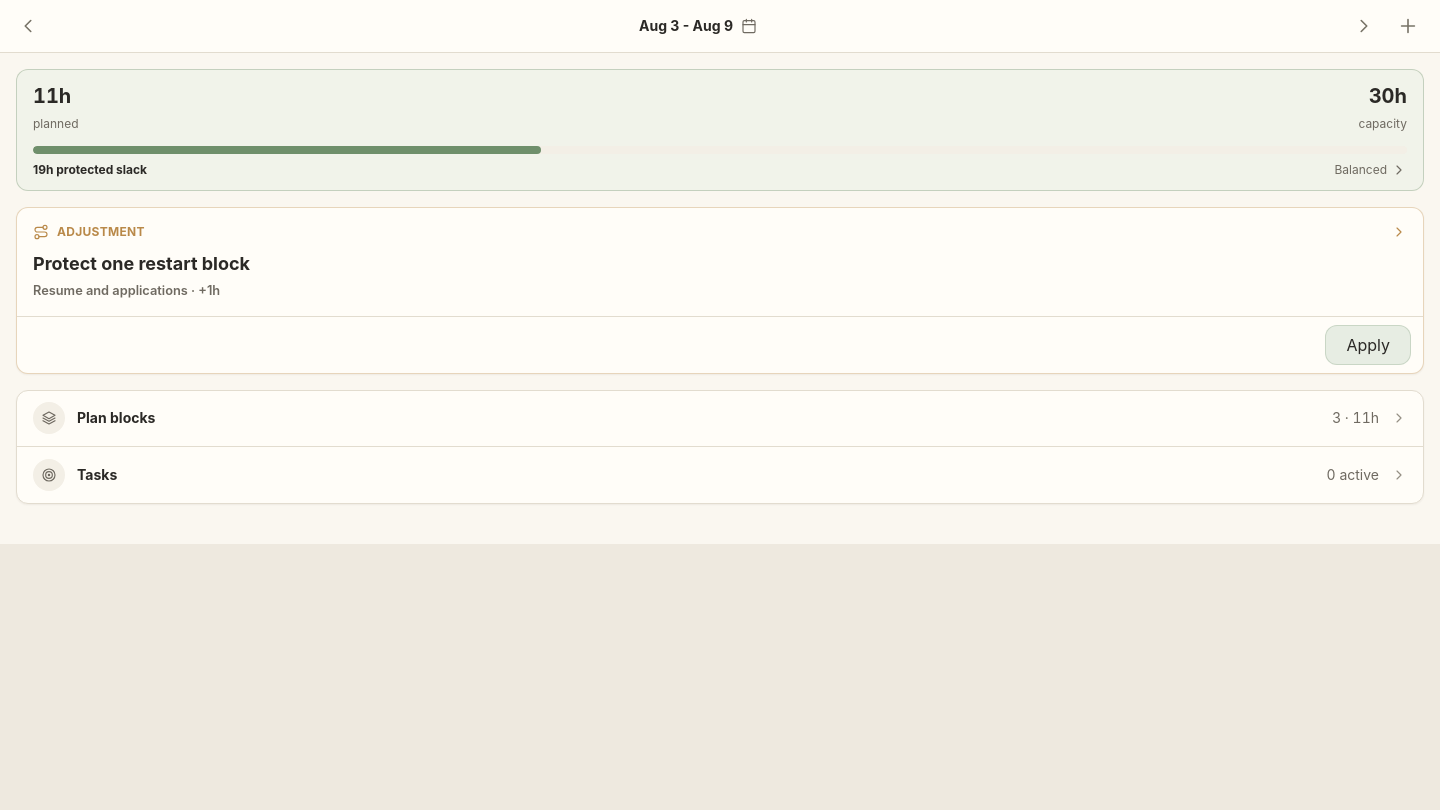
Scenario: PlanScreen › defaults to the account-local next week and safely resets after browsing
Expected: the text "Aug 3 - Aug 9" is shown, [639,16,733,36]
Expected: the button "Next week" is not shown
Step 1. Click the button named "Previous target week" → click(28, 26), box [8,6,48,46]
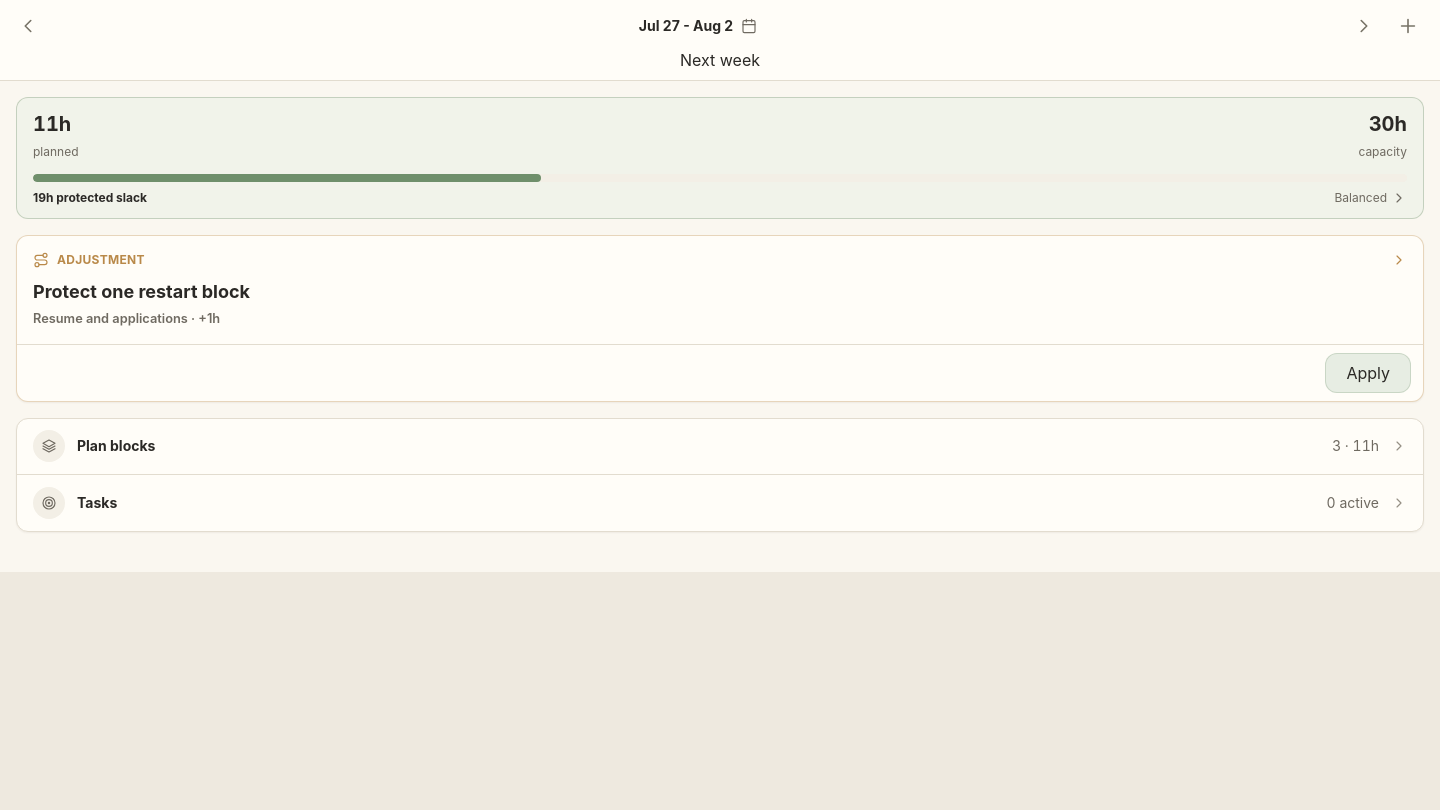
Now the text "Jul 27 - Aug 2" is shown, box [639,16,733,36]
Step 2. Click the button "Next week" → click(720, 60), box [668,46,772,74]
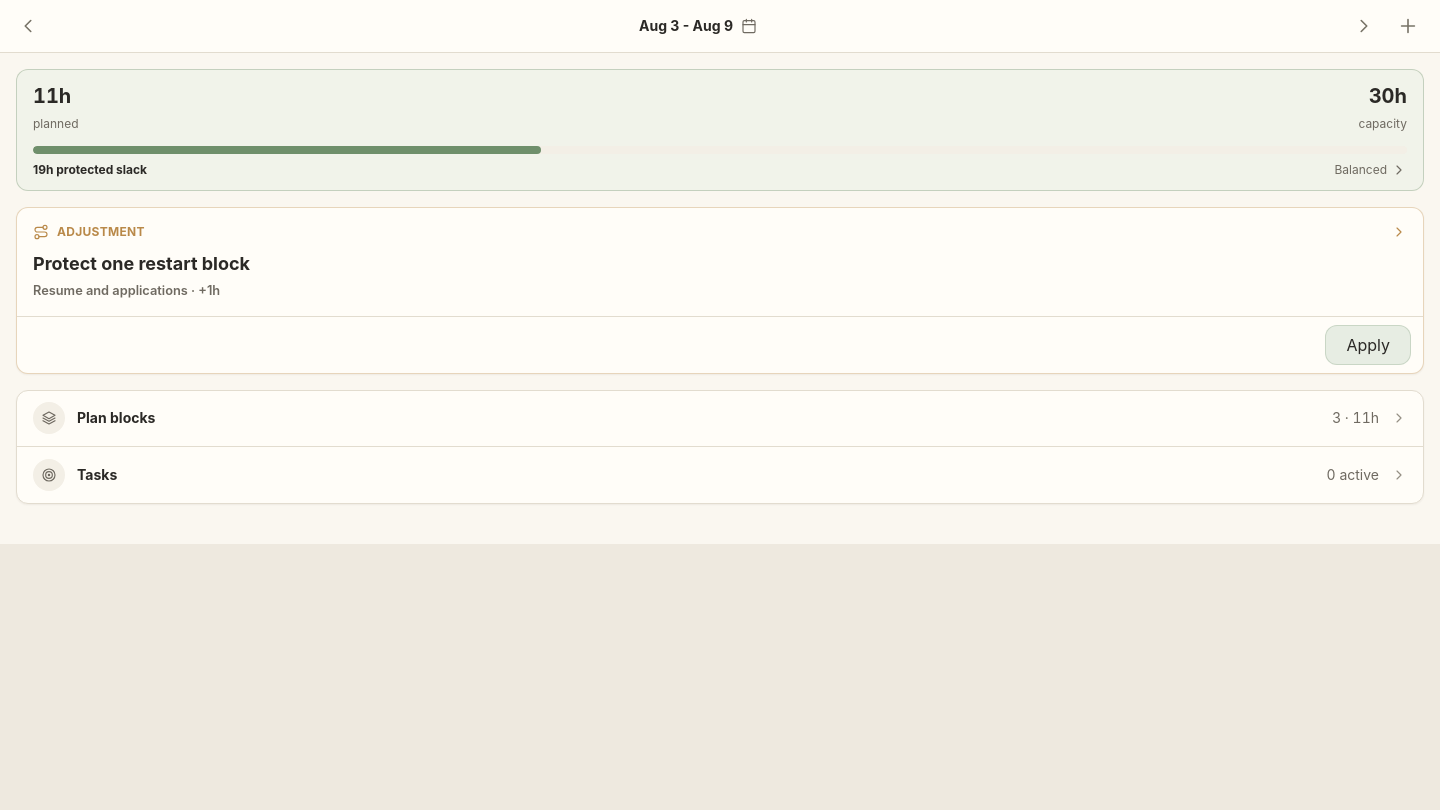
Now the text "Aug 3 - Aug 9" is shown, box [639,16,733,36]
Step 3. Type "2026-08-12" into the date field named "Choose target week" → (698, 26), box [639,17,757,34]
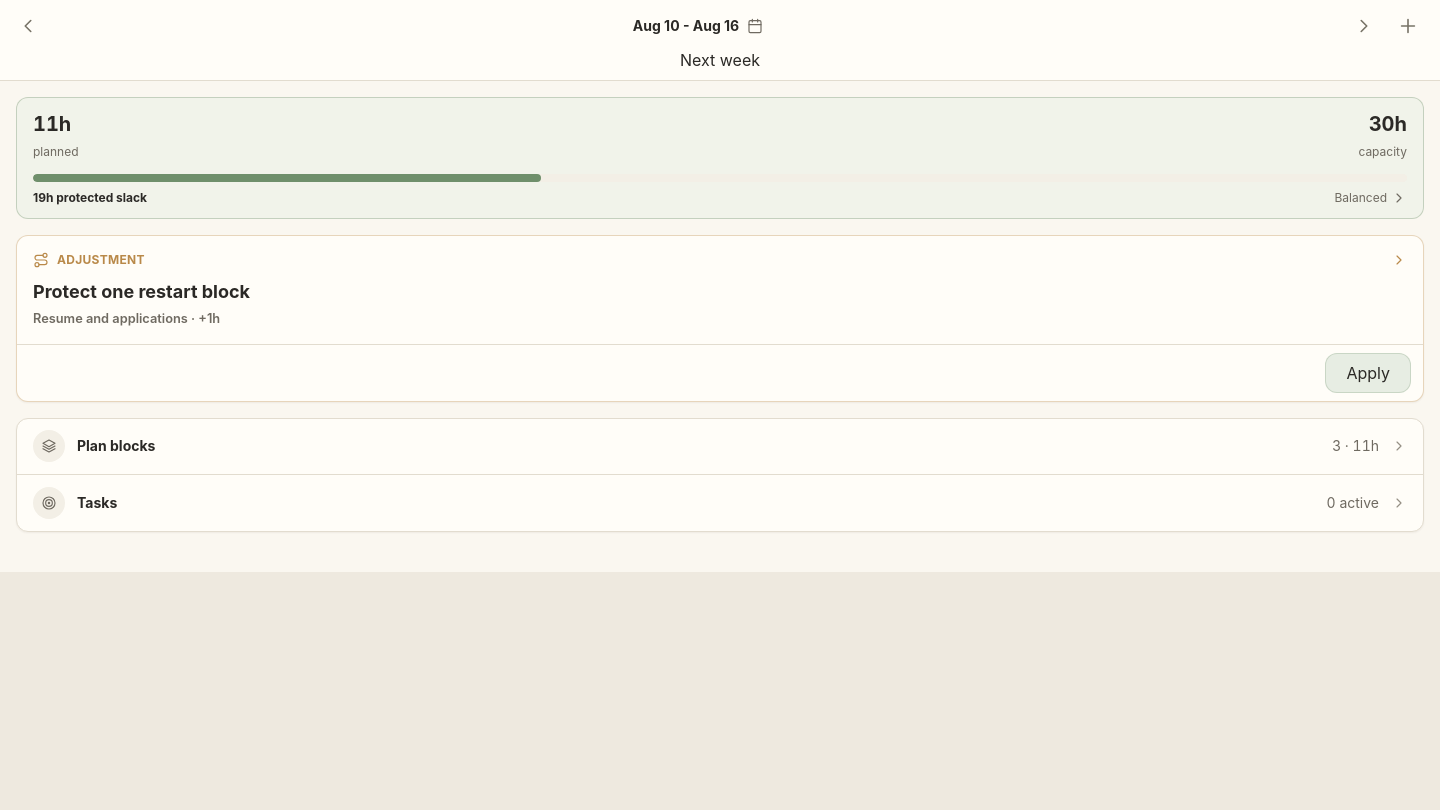
Now the text "Aug 10 - Aug 16" is shown, box [633,16,739,36]
